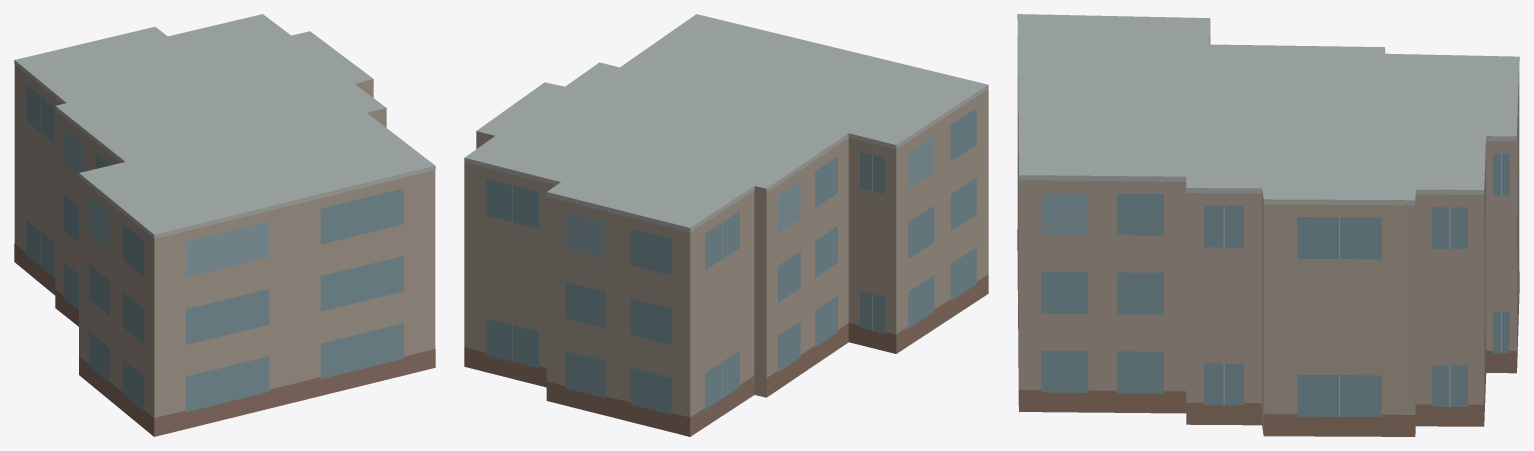
Rendered from survey-upis-33031681.glb.
3 renders of one model, left to right at view 1: azimuth 30°, elevation 25°; view 2: azimuth 150°, elevation 25°; view 3: azimuth 270°, elevation 25°, orthographic. The views are drawn at different scales.
Parts seen in each view (by area): view 1: survey-upis-33031681.tmp; view 2: survey-upis-33031681.tmp; view 3: survey-upis-33031681.tmp.
Boxes of the visible parts, x1=… form: survey-upis-33031681.tmp: x1=14, y1=14, x2=435, y2=436; survey-upis-33031681.tmp: x1=464, y1=14, x2=988, y2=436; survey-upis-33031681.tmp: x1=1017, y1=14, x2=1519, y2=436.
Size of the model in its own units: 19.25 by 11.41 by 21.93.
